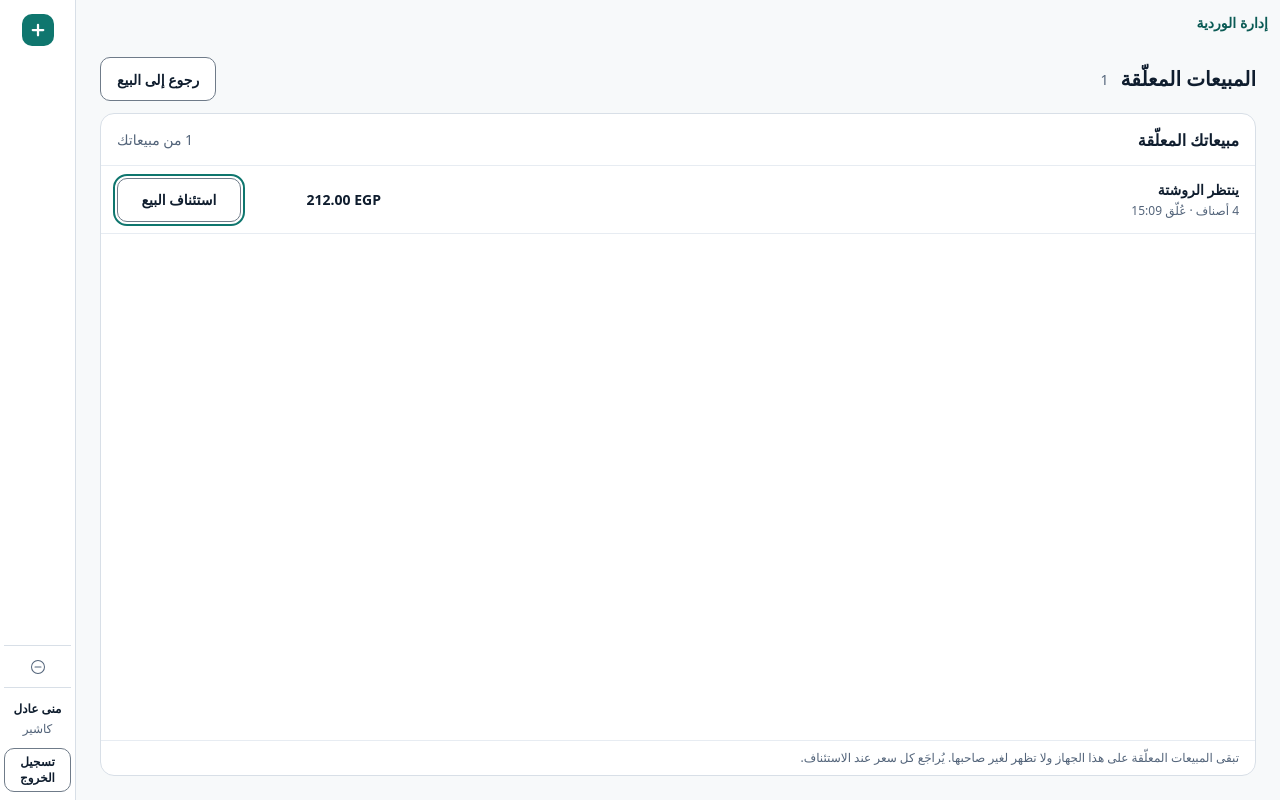
Scenario: ParkProof › ReviewRemoved reaches its review
Click the button "استئناف البيع" at (179, 200), box x1=117 y1=178 x2=241 y2=222
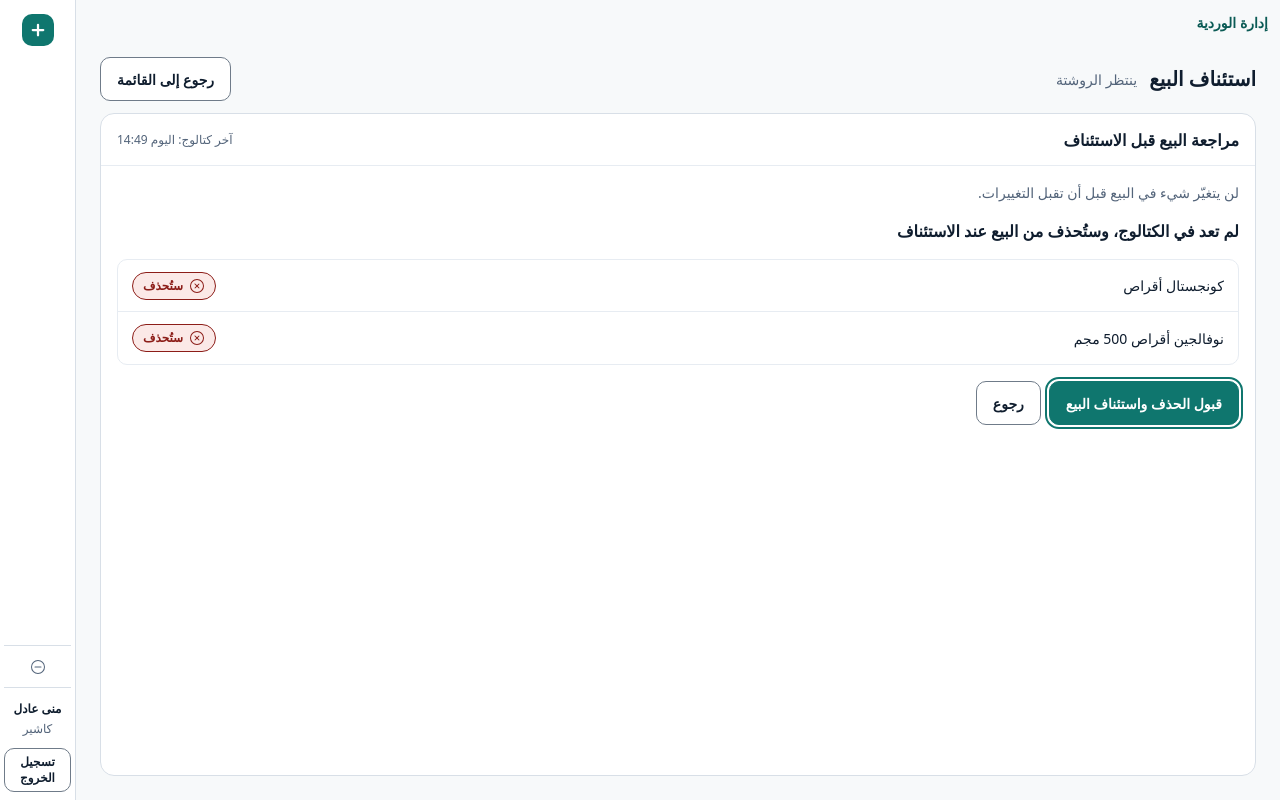
Result: the button "قبول الحذف واستئناف البيع" is shown at x1=1049 y1=381 x2=1239 y2=425
